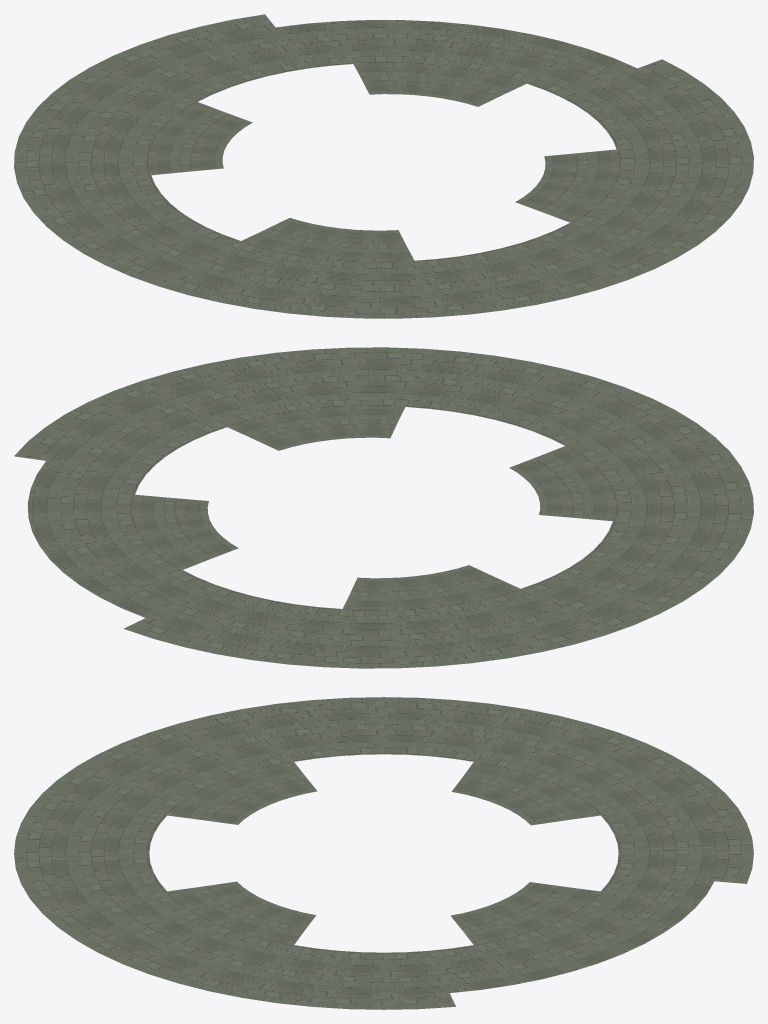
The model's file is cs_xinzhucheng_dibiao_001.FBX.
The picture shows the model from 3 angles, top to bottom: view 1: azimuth 30°, elevation 25°; view 2: azimuth 150°, elevation 25°; view 3: azimuth 270°, elevation 25°; orthographic projection. The views are drawn at different scales.
Parts seen in each view (by area): view 1: cs_xinzhucheng_dibiao_001; view 2: cs_xinzhucheng_dibiao_001; view 3: cs_xinzhucheng_dibiao_001.
Boxes of the visible parts, box(x1,y1,x2,y2) form: cs_xinzhucheng_dibiao_001: box(14, 14, 753, 318); cs_xinzhucheng_dibiao_001: box(14, 347, 753, 668); cs_xinzhucheng_dibiao_001: box(14, 697, 753, 1009).
Bounding box in the file's own units: 474 × 0.0028 × 474.
